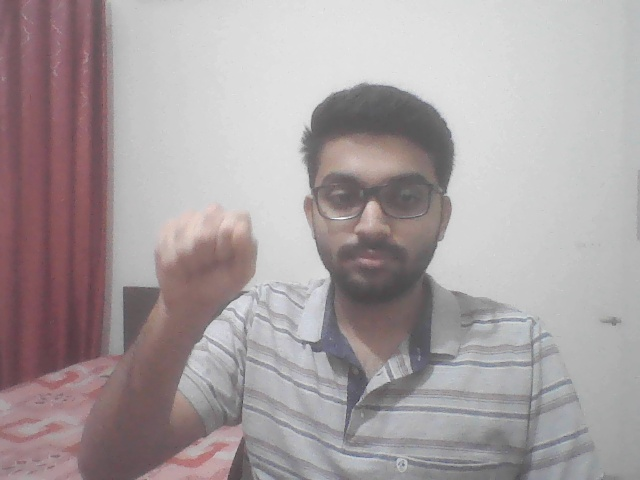yes: (123, 198, 290, 322)
